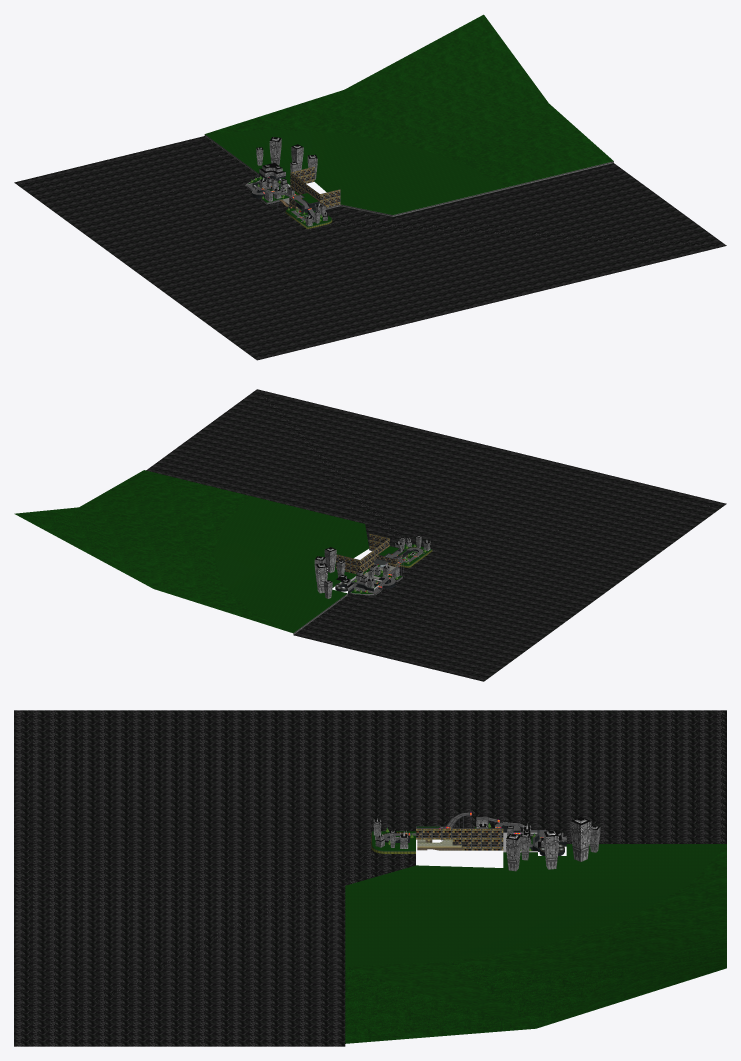
The picture shows the model from 3 angles, top to bottom: view 1: azimuth 30°, elevation 25°; view 2: azimuth 150°, elevation 25°; view 3: azimuth 270°, elevation 25°; orthographic projection. The views are drawn at different scales.
Parts seen in each view (by area): view 1: Skyline_Avenue-SKP--ef_sea.001, Skyline_Avenue-SKP--kusa.001, Skyline_Avenue-SKP--bill.001, Skyline_Avenue-SKP--renga.001, Skyline_Avenue-SKP--building_01.001; view 2: Skyline_Avenue-SKP--ef_sea.001, Skyline_Avenue-SKP--kusa.001, Skyline_Avenue-SKP--bill.001, Skyline_Avenue-SKP--building_01.001; view 3: Skyline_Avenue-SKP--ef_sea.001, Skyline_Avenue-SKP--kusa.001, Skyline_Avenue-SKP--bill.001, Skyline_Avenue-SKP--building_01.001, Skyline_Avenue-SKP--black.001.
Boxes of the visible parts, x1,y1,x2,y2 form: Skyline_Avenue-SKP--ef_sea.001: (14,136,726,360); Skyline_Avenue-SKP--kusa.001: (205,14,613,226); Skyline_Avenue-SKP--bill.001: (256,137,327,226); Skyline_Avenue-SKP--renga.001: (204,134,613,221); Skyline_Avenue-SKP--building_01.001: (289,166,340,209); Skyline_Avenue-SKP--ef_sea.001: (146,389,726,681); Skyline_Avenue-SKP--kusa.001: (14,470,431,633); Skyline_Avenue-SKP--bill.001: (314,536,430,598); Skyline_Avenue-SKP--building_01.001: (336,533,402,574); Skyline_Avenue-SKP--ef_sea.001: (14,710,726,1046); Skyline_Avenue-SKP--kusa.001: (345,826,726,1043); Skyline_Avenue-SKP--bill.001: (373,818,600,871); Skyline_Avenue-SKP--building_01.001: (416,828,503,850); Skyline_Avenue-SKP--black.001: (373,817,599,847).
Bounding box in the file's own units: 4773 × 523 × 4277.
36 materials, 36 textured.
